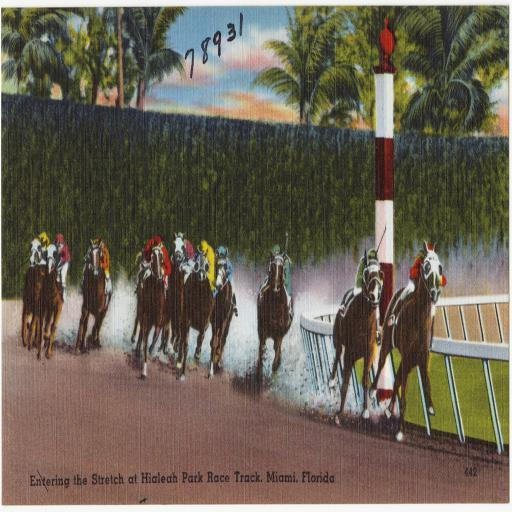horse: (368, 252, 442, 439), (330, 248, 383, 426), (72, 236, 114, 356), (178, 245, 214, 383), (131, 241, 166, 381), (256, 250, 291, 384), (34, 238, 66, 362), (208, 247, 234, 382), (22, 228, 46, 347), (168, 228, 188, 356)
